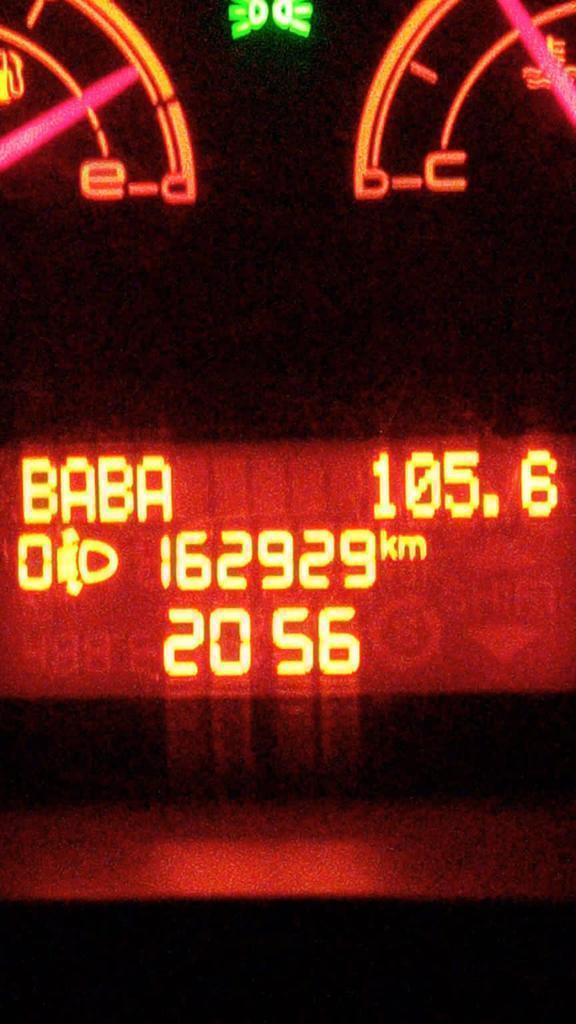,: (480, 491, 505, 522)
0: (207, 606, 252, 676), (405, 450, 442, 520), (16, 532, 54, 593)
1: (370, 447, 399, 521), (158, 531, 172, 593)
2: (160, 605, 204, 678), (297, 528, 337, 591), (216, 527, 253, 593)
5: (272, 604, 315, 674), (441, 447, 480, 521)
6: (317, 605, 361, 676), (519, 449, 558, 517), (175, 528, 213, 592)
9: (255, 525, 295, 589), (339, 527, 376, 590)
X: (20, 454, 59, 525), (60, 453, 97, 524), (136, 454, 174, 523), (97, 453, 133, 523), (398, 532, 428, 561), (378, 526, 397, 560)
odometer: (0, 437, 576, 704)
